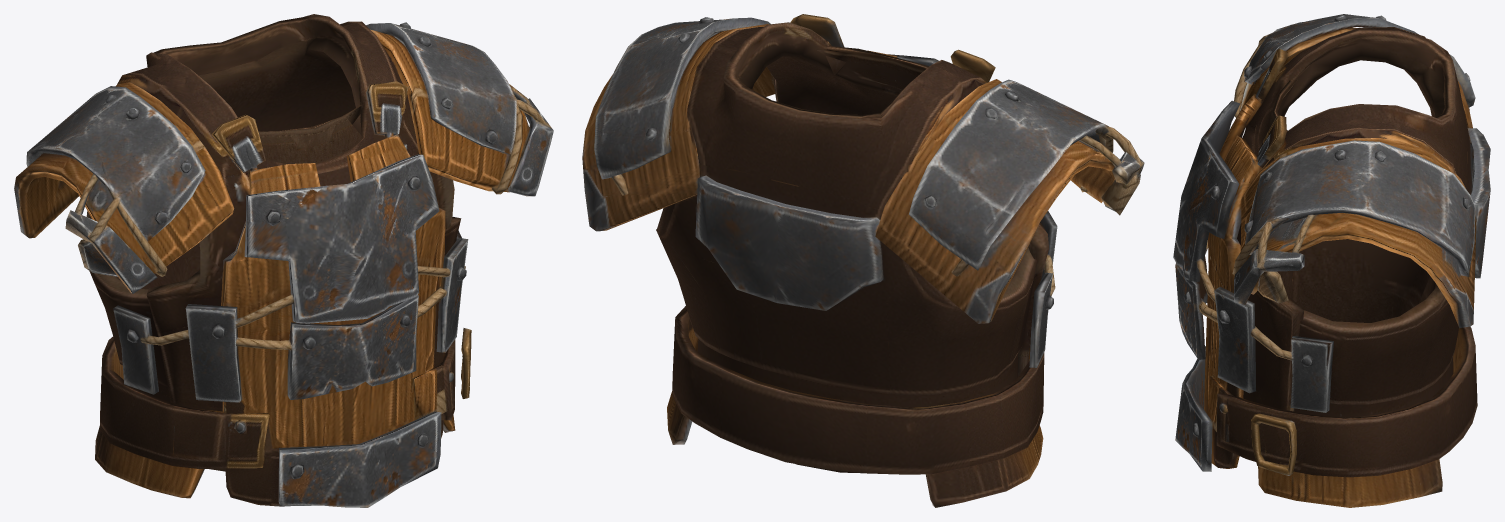
File: scrapArmor.glb
3 views of the same model, side by side, from view 1: azimuth 30°, elevation 25°; view 2: azimuth 150°, elevation 25°; view 3: azimuth 270°, elevation 25° (orthographic). The views are drawn at different scales.
Bounding box in the file's own units: 1 × 0.7988 × 0.6133.
Materials: 1 (1 with a texture image).
